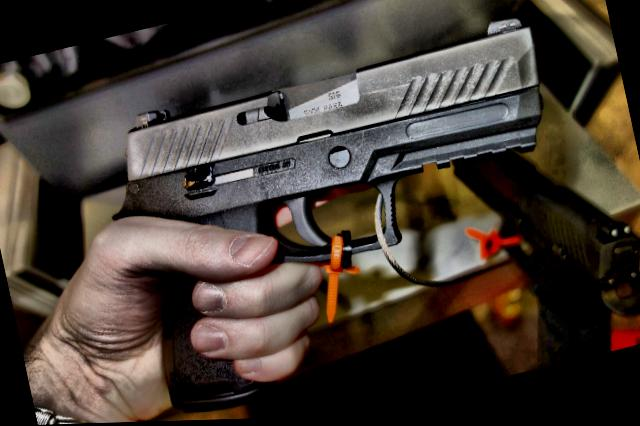pistol: (88, 10, 596, 424)
